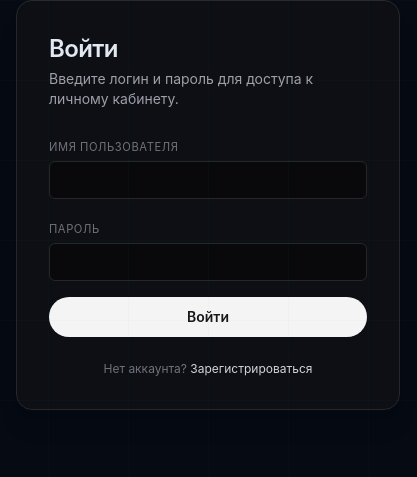
Scenario: <AuthForm /> — login mode › displays a friendly error on bad credentials
Type "alice" into the field labelled "Имя пользователя" at (208,180), box [49,161,367,199]
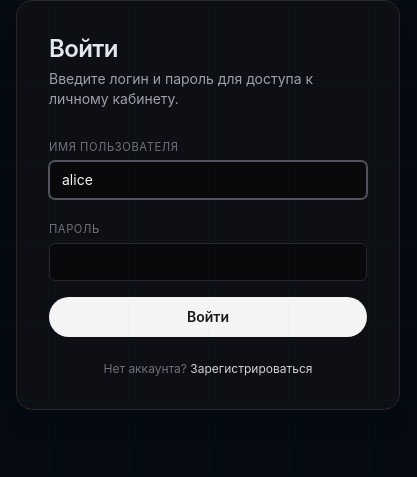
Type "wrongpassword" into the password field labelled "Пароль" at (208,262), box [49,243,367,281]
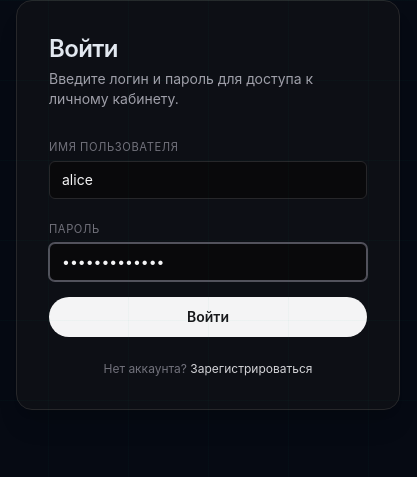
Click the button "Войти" at (208,317), box [49,297,367,337]
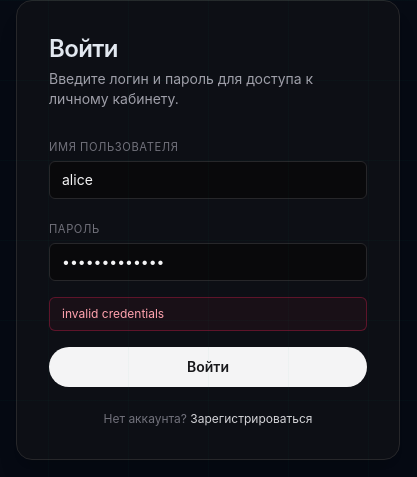
Expected: the text "invalid credentials" is shown, [49,297,367,331]
